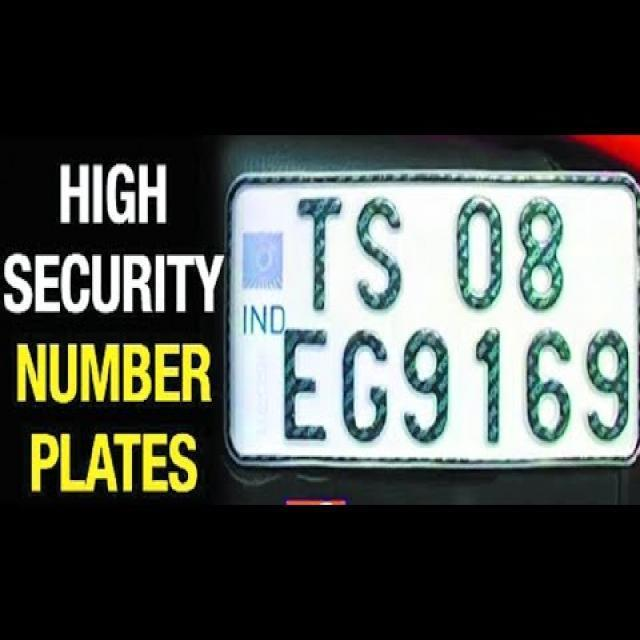License_Plate: (228, 166, 640, 464)
